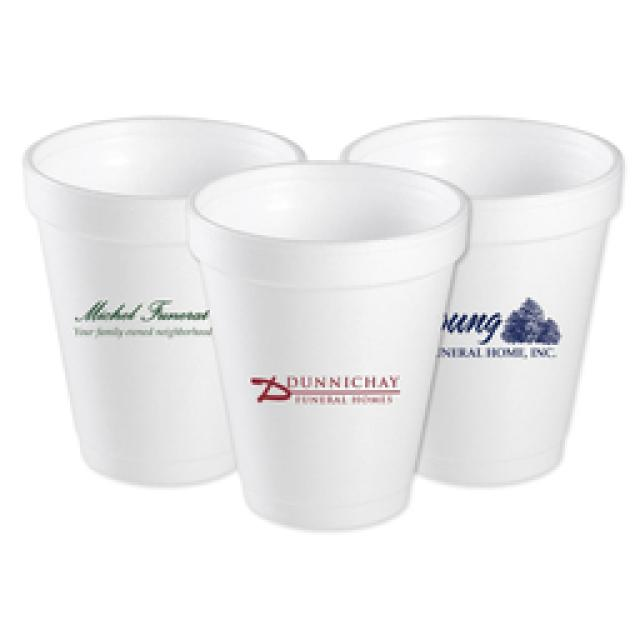styrofoam: (199, 171, 476, 544), (354, 117, 604, 501), (31, 136, 236, 511)
